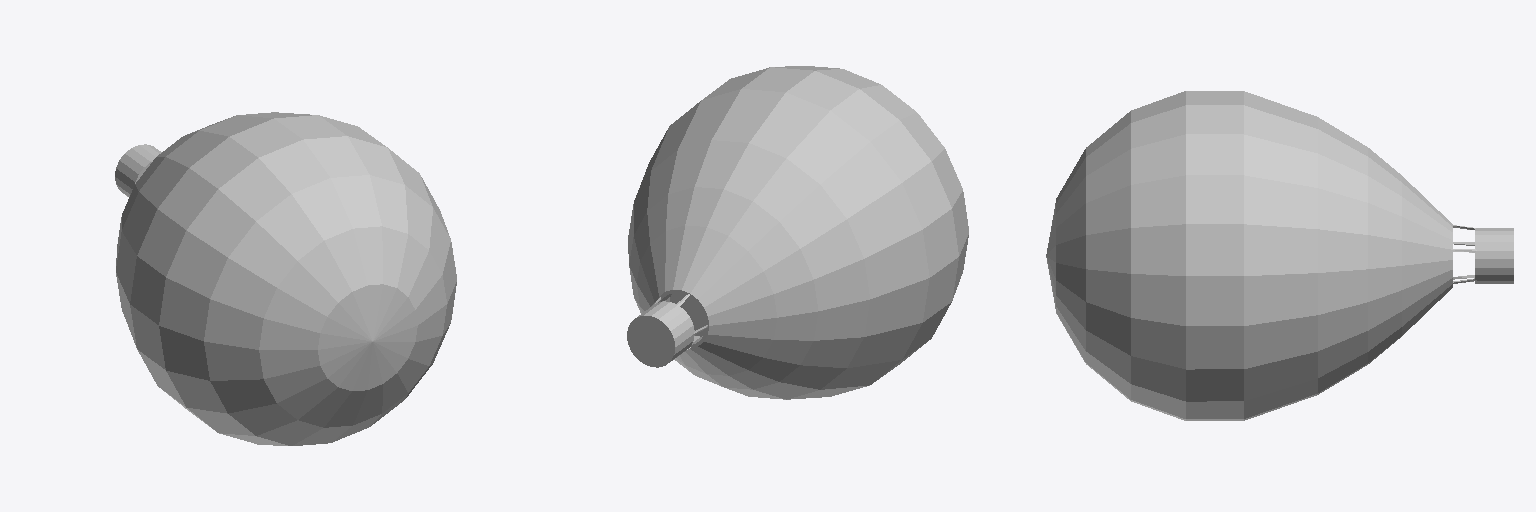
The model's file is balloon.obj.
3 views of the same model, side by side, from view 1: azimuth 30°, elevation 25°; view 2: azimuth 150°, elevation 25°; view 3: azimuth 270°, elevation 25° (orthographic).
Visible parts, largest first — view 1: balloon; view 2: balloon; view 3: balloon.
Part boxes in pixels (left/top/right/bottom): balloon: left=115, top=112, right=456, bottom=445; balloon: left=627, top=66, right=968, bottom=399; balloon: left=1046, top=91, right=1513, bottom=420.
Bounding box in the file's own units: 310 × 310 × 436.